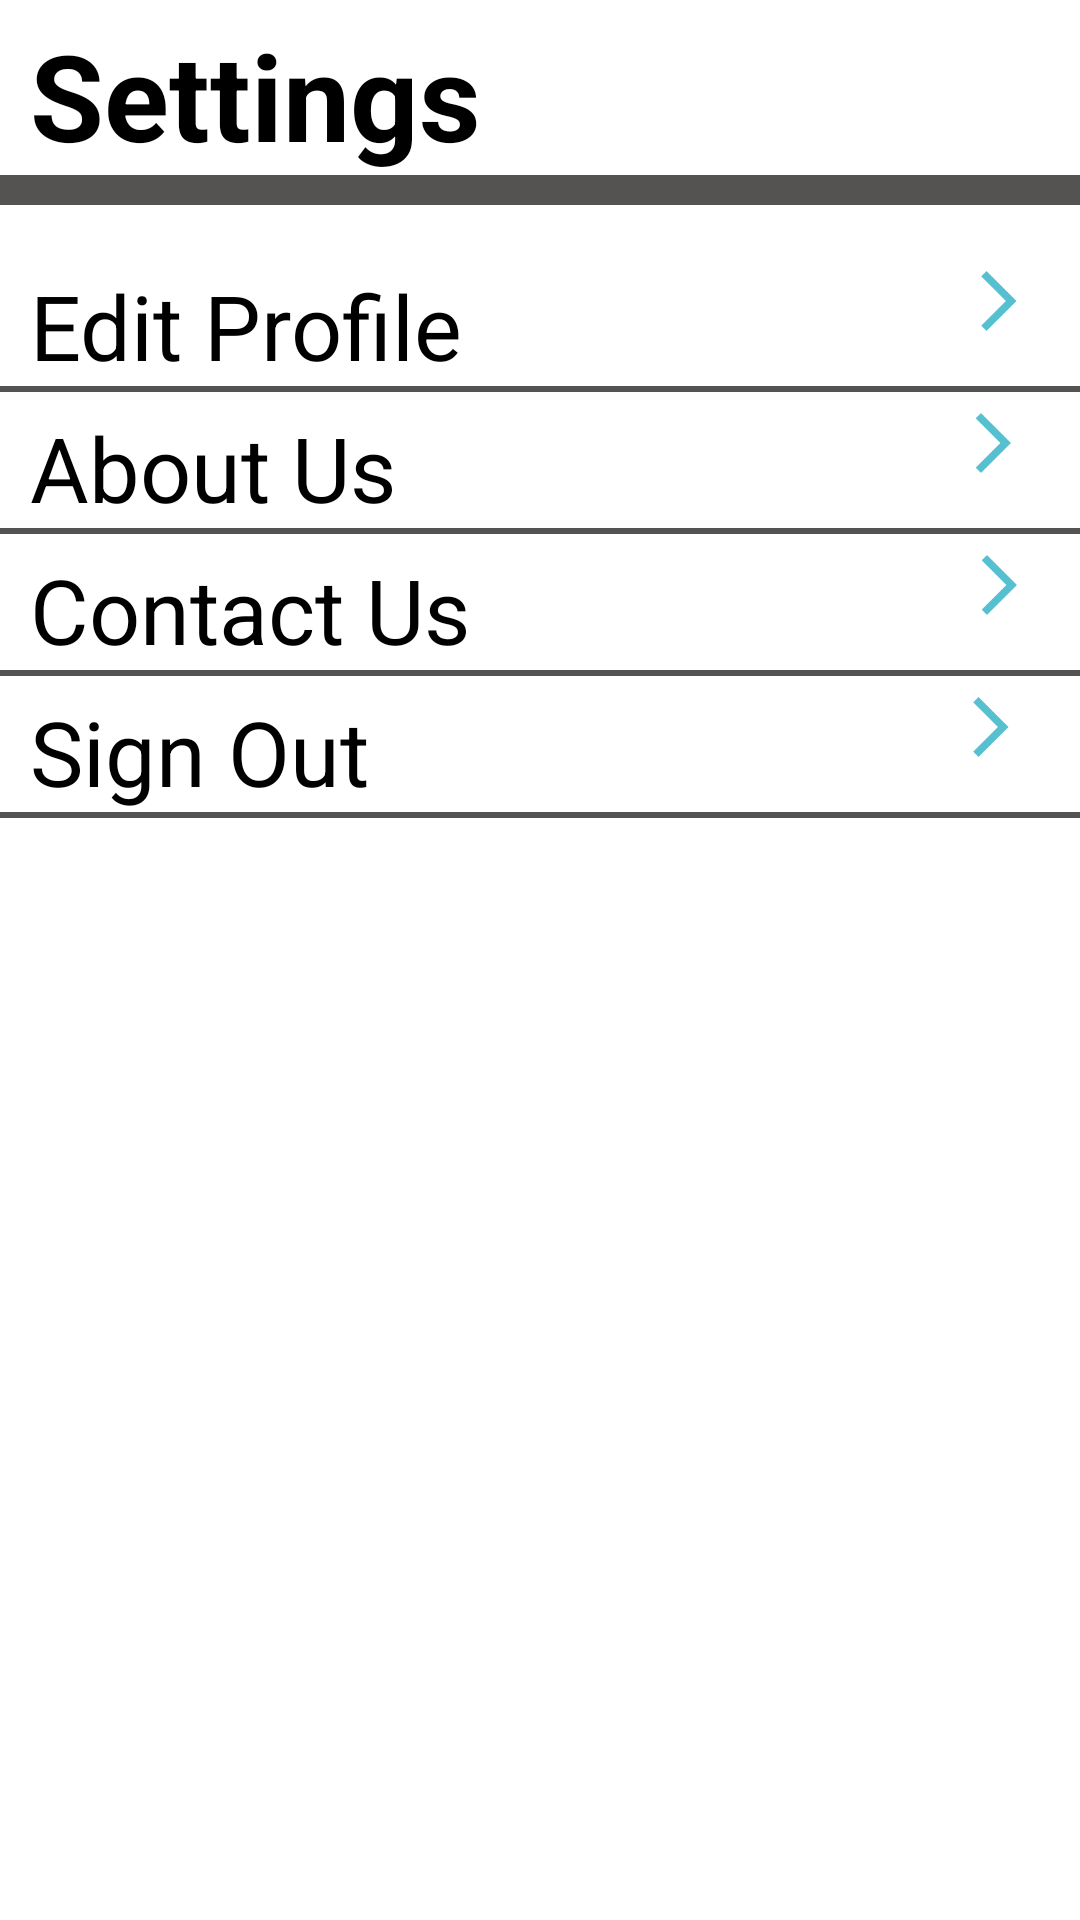

Icon click points for this 1080x1920 phone screenshot, format point (x, y):
arrow forward: point (998, 301), point (993, 443), point (999, 585), point (990, 727)
